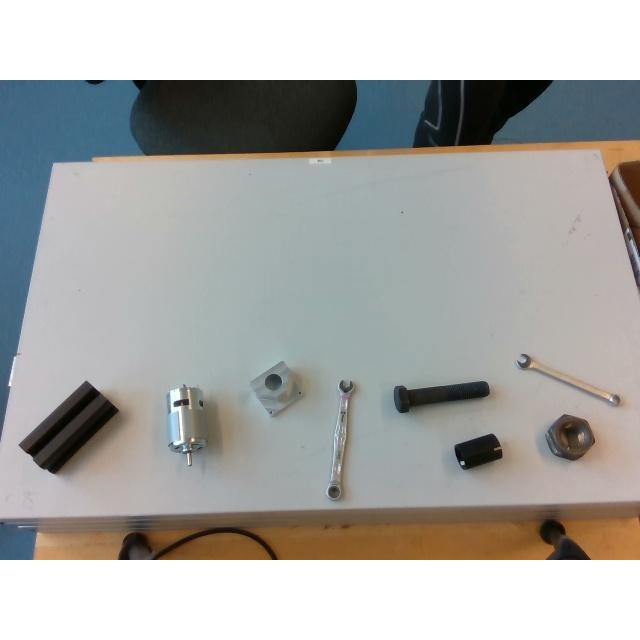M20_100: (394, 381, 490, 412)
M30: (546, 414, 594, 460)
Motor2: (166, 385, 207, 465)
S40_40_B: (19, 381, 117, 472)
Wrench: (326, 380, 354, 500)
